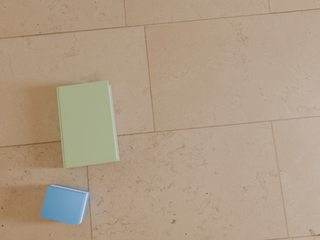book: (57, 81, 119, 168)
box: (40, 184, 90, 225)
